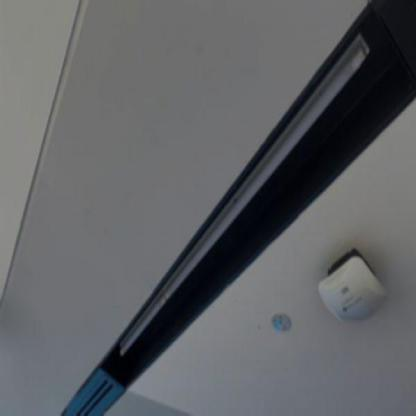light_off: (112, 25, 372, 364)
